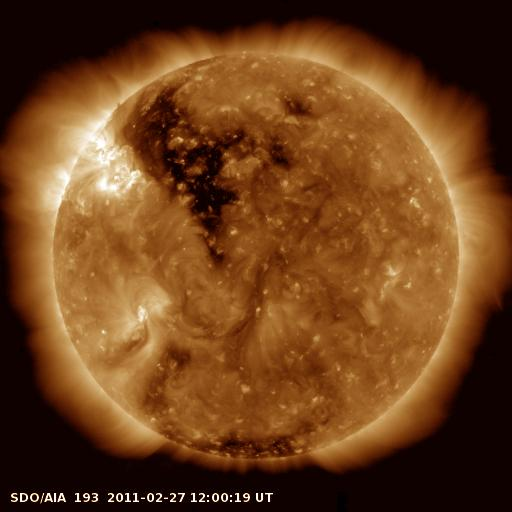coronal_hole: (118, 79, 269, 263), (156, 427, 318, 463)
